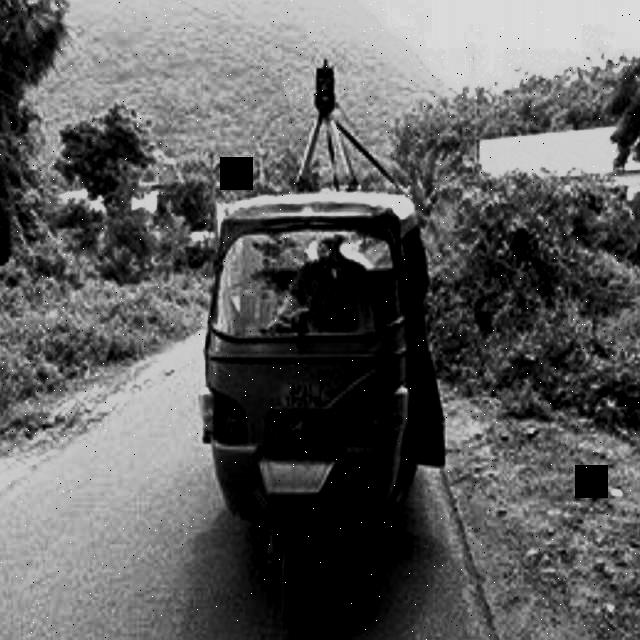Auto-Rickshaw: (187, 174, 471, 640)
